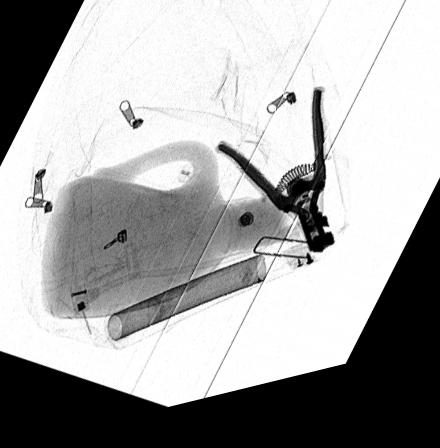Pliers: (212, 100, 336, 270)
